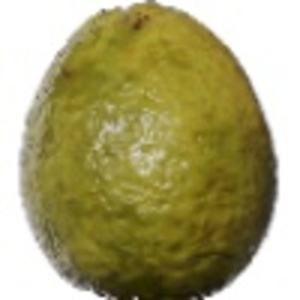goiaba: (13, 5, 279, 293)
